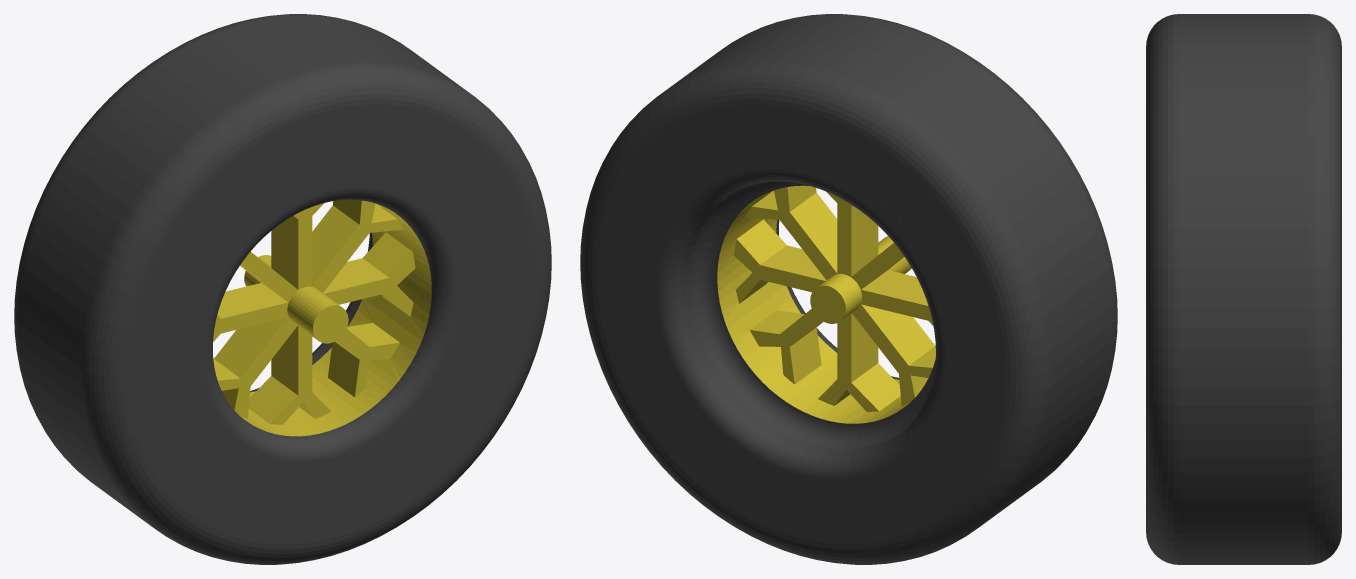
Rendered from wheel2.dae.
3 views of the same model, side by side, from view 1: azimuth 30°, elevation 25°; view 2: azimuth 150°, elevation 25°; view 3: azimuth 270°, elevation 25° (orthographic). The views are drawn at different scales.
Parts seen in each view (by area): view 1: wheel; view 2: wheel; view 3: wheel.
Boxes of the visible parts, x1,y1,x2,y2 form: wheel: [14, 14, 551, 564]; wheel: [580, 14, 1117, 564]; wheel: [1146, 14, 1341, 564].
Size of the model in its own units: 0.83 by 0.295 by 0.8294.
